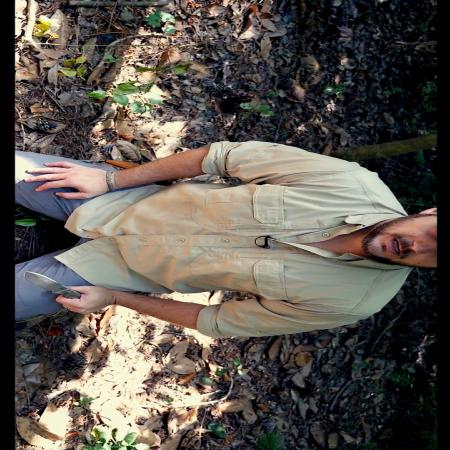long weapon: (18, 268, 104, 316)
